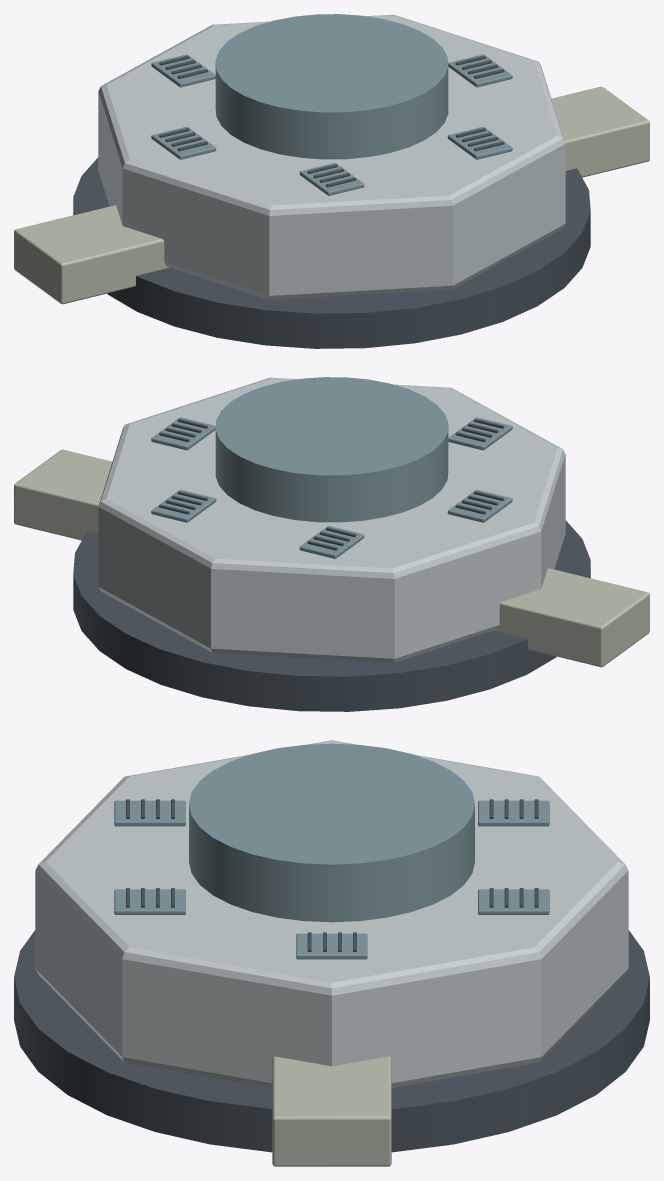
3 renders of one model, top to bottom at view 1: azimuth 30°, elevation 25°; view 2: azimuth 150°, elevation 25°; view 3: azimuth 270°, elevation 25°, orthographic. The views are drawn at different scales.
Visible parts, largest first — view 1: trade-hub; view 2: trade-hub; view 3: trade-hub.
Part boxes in pixels (x1=…): trade-hub: x1=14, y1=14, x2=649, y2=348; trade-hub: x1=14, y1=377, x2=649, y2=711; trade-hub: x1=14, y1=740, x2=649, y2=1166.
Bounding box in the file's own units: 10.5 × 3 × 8.
